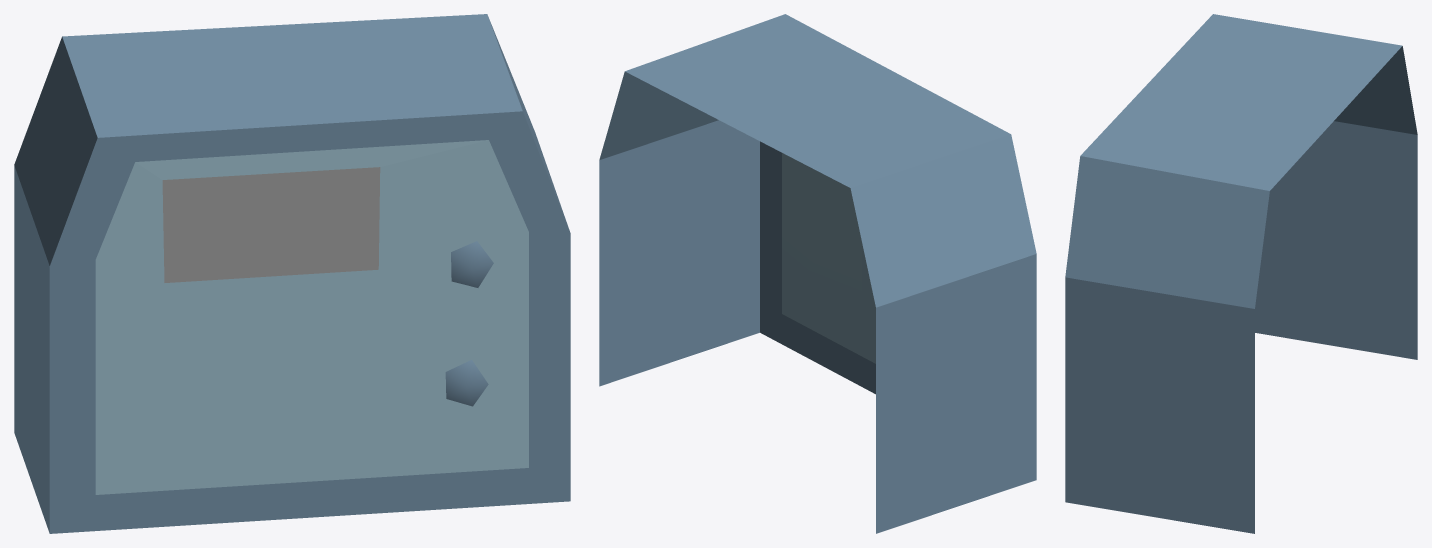
File: MSH_QuestObject_box_02.fbx
The picture shows the model from 3 angles, left to right: view 1: azimuth 30°, elevation 25°; view 2: azimuth 150°, elevation 25°; view 3: azimuth 270°, elevation 25°; orthographic projection. The views are drawn at different scales.
Parts seen in each view (by area): view 1: MSH_QuestObject_box_02; view 2: MSH_QuestObject_box_02; view 3: MSH_QuestObject_box_02.
Boxes of the visible parts, box(x1,y1,x2,y2) form: MSH_QuestObject_box_02: box(14, 14, 570, 533); MSH_QuestObject_box_02: box(599, 14, 1036, 533); MSH_QuestObject_box_02: box(1065, 14, 1417, 533).
Size of the model in its own units: 0.7611 by 0.5701 by 0.5512.
